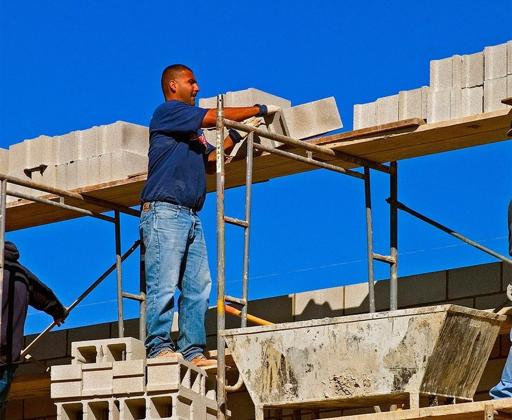unsafe person: (138, 63, 234, 374)
